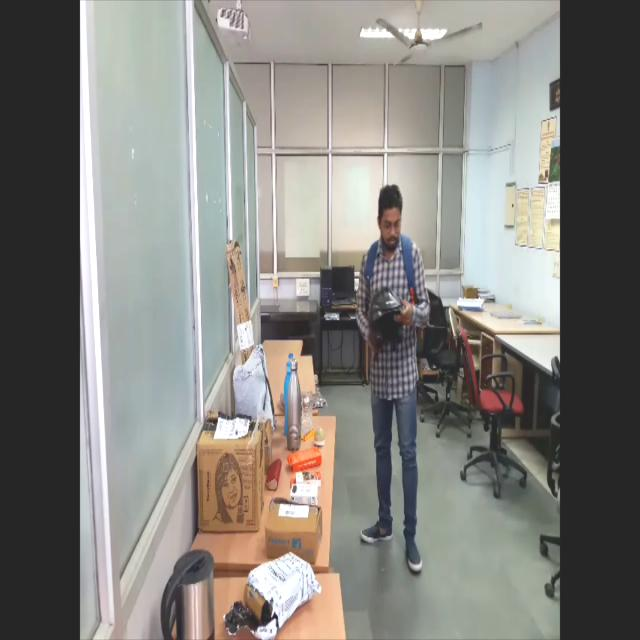normal: (349, 178, 434, 592)
